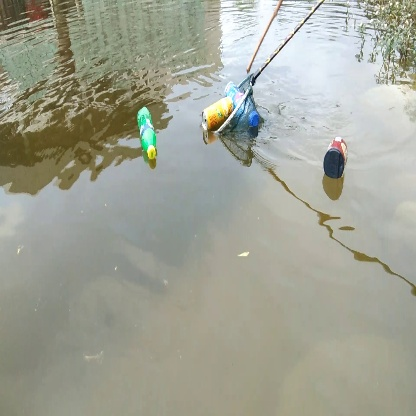bottle: (132, 104, 164, 167), (194, 96, 234, 135), (320, 133, 353, 178)
